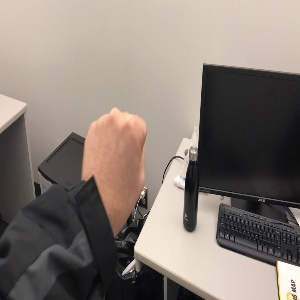hand: (82, 106, 147, 198)
